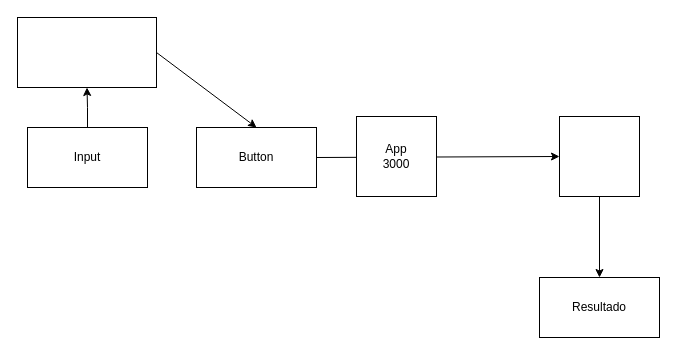
This 677x355 diagram has some shape labels left out. Each missing label, with the centre of its shape:
API 3001: (x=599, y=156)
State: (x=86, y=52)
